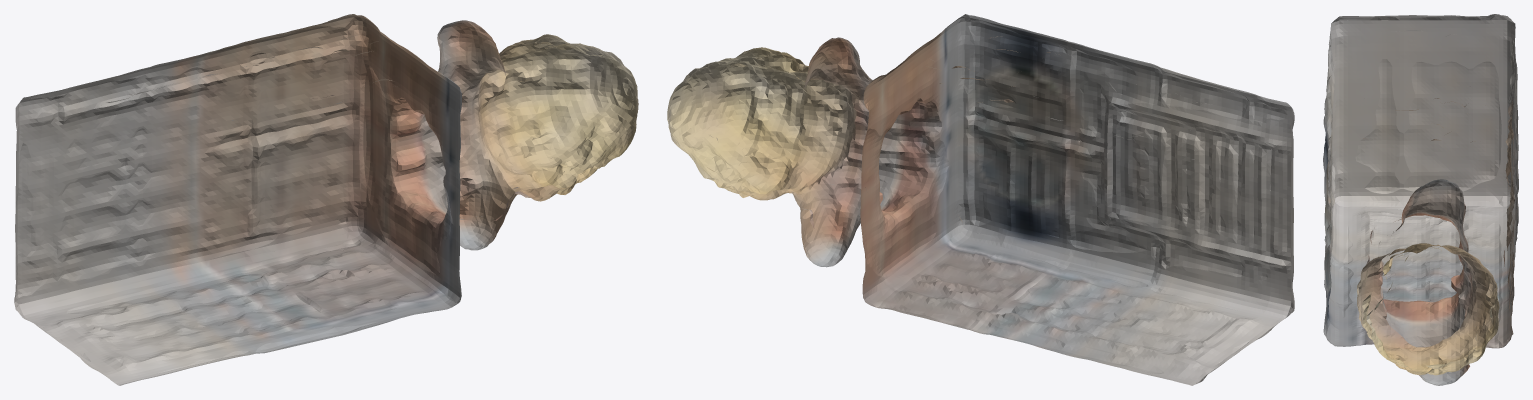
Rendered from bust_cc0.glb.
The picture shows the model from 3 angles, left to right: view 1: azimuth 30°, elevation 25°; view 2: azimuth 150°, elevation 25°; view 3: azimuth 270°, elevation 25°; orthographic projection. The views are drawn at different scales.
Visible parts, largest first — view 1: geometry_0; view 2: geometry_0; view 3: geometry_0.
Boxes of the visible parts, x1,y1,x2,y2 form: geometry_0: (14,14,638,385); geometry_0: (667,14,1294,385); geometry_0: (1323,14,1518,385).
Size of the model in its own units: 0.9224 by 0.353 by 0.3102.
